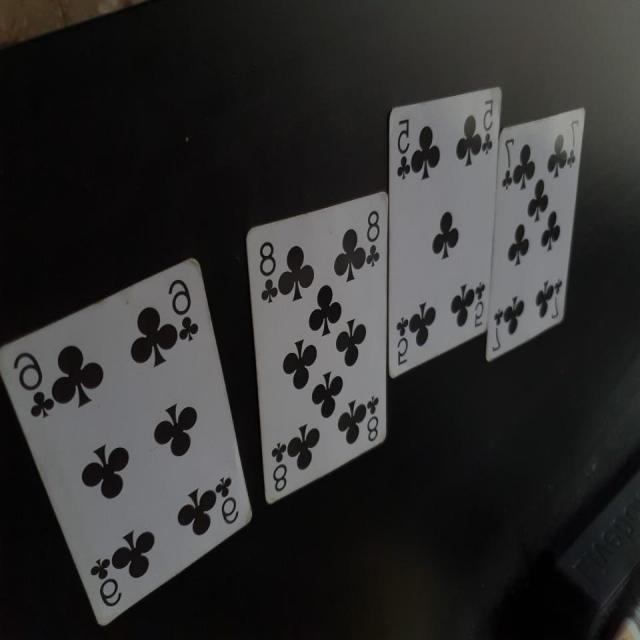5 of clubs: (385, 80, 502, 380)
6 of clubs: (0, 256, 256, 633)
7 of clubs: (484, 102, 588, 366)
8 of clubs: (245, 192, 392, 505)
